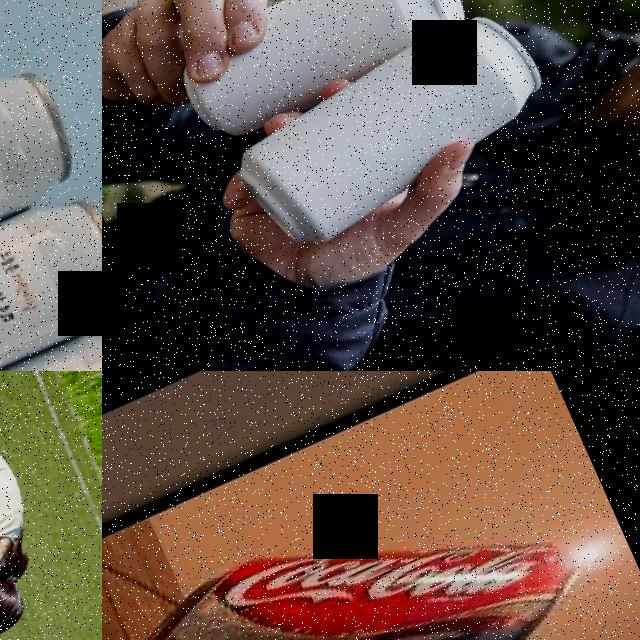can: (102, 434, 613, 640), (212, 0, 569, 268), (162, 0, 482, 153), (0, 56, 81, 329), (0, 186, 102, 371)
